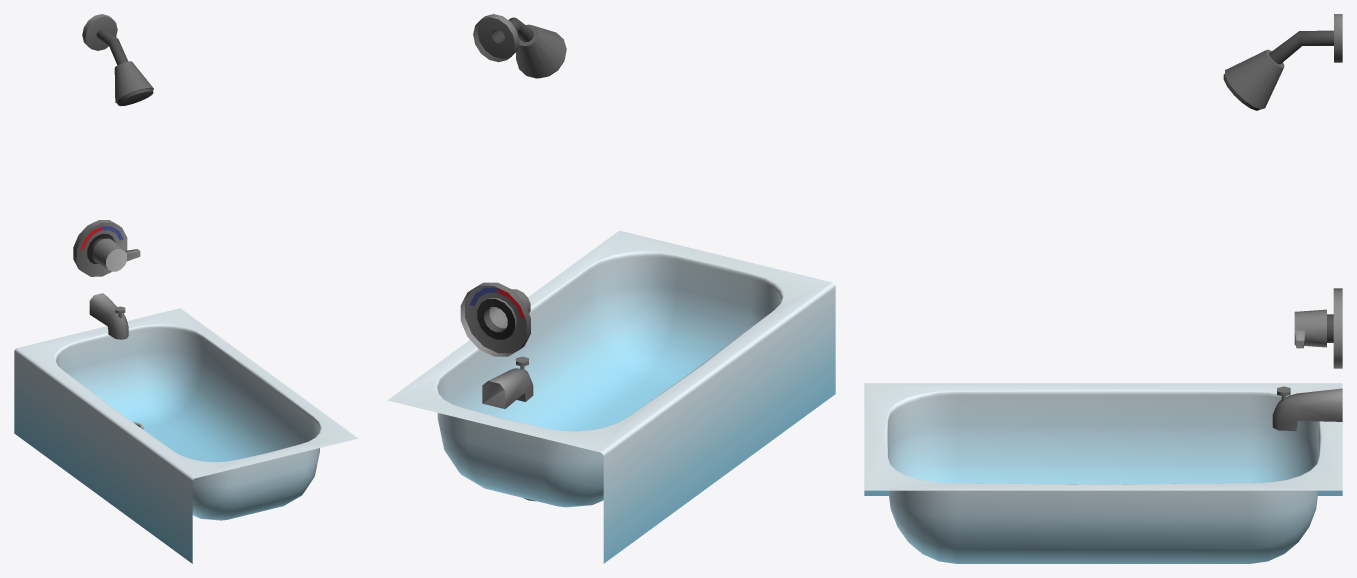
The model's file is Bathtub _ Shower.FBX.
3 renders of one model, left to right at view 1: azimuth 30°, elevation 25°; view 2: azimuth 150°, elevation 25°; view 3: azimuth 270°, elevation 25°, orthographic. The views are drawn at different scales.
Parts seen in each view (by area): view 1: Bathtub, Shower Head; view 2: Bathtub, Shower Head; view 3: Bathtub, Shower Head.
Part boxes in pixels (<box>): Bathtub: <box>14,220,357,563</box>; Shower Head: <box>82,14,153,106</box>; Bathtub: <box>387,230,835,563</box>; Shower Head: <box>473,14,566,78</box>; Bathtub: <box>864,288,1342,563</box>; Shower Head: <box>1223,14,1342,110</box>.
Size of the model in its own units: 57.2 by 131 by 106.
1 material, 1 textured.
